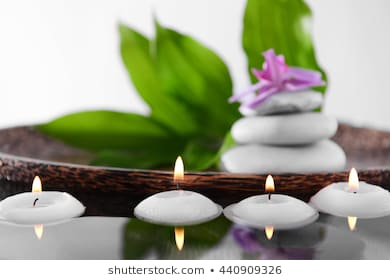Fire: (345, 165, 362, 194), (171, 154, 186, 186), (30, 173, 43, 204), (264, 172, 275, 202)
